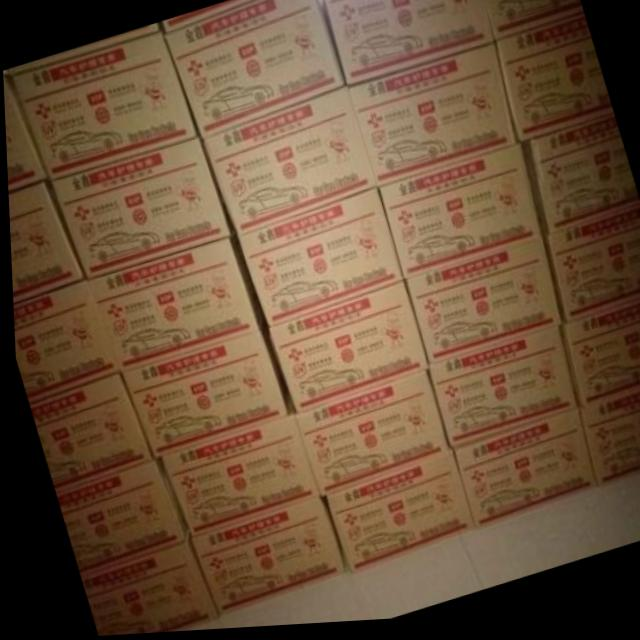box: (11, 32, 196, 181), (47, 138, 233, 279), (199, 89, 375, 237), (164, 0, 345, 140), (83, 236, 262, 375), (346, 49, 515, 193), (234, 193, 400, 332), (116, 330, 287, 461), (376, 148, 539, 284), (264, 285, 424, 415), (402, 242, 559, 370), (288, 372, 445, 499), (155, 417, 316, 539), (318, 453, 471, 577), (425, 333, 575, 457), (189, 500, 342, 618), (448, 414, 591, 536), (317, 0, 494, 88), (51, 461, 183, 578), (494, 20, 611, 149), (25, 374, 150, 493), (518, 119, 639, 240), (77, 533, 214, 637), (11, 279, 117, 403), (540, 213, 640, 332), (7, 178, 83, 305), (559, 306, 640, 414), (7, 23, 160, 78), (578, 394, 640, 493), (3, 70, 46, 191), (483, 0, 582, 49), (161, 0, 264, 36)
